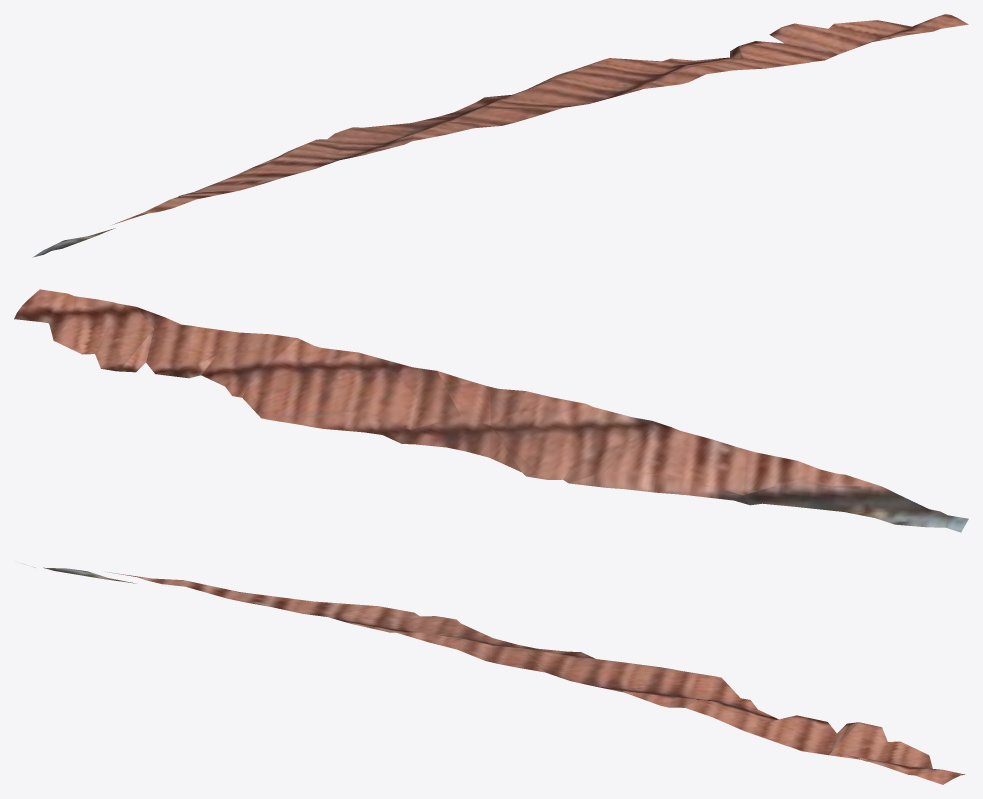
The picture shows the model from 3 angles, top to bottom: view 1: azimuth 30°, elevation 25°; view 2: azimuth 150°, elevation 25°; view 3: azimuth 330°, elevation 25°; orthographic projection.
Bounding box in the file's own units: 3.35 × 0.1022 × 0.4103.
1 material, 1 textured.
